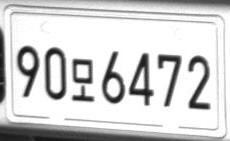0: (44, 46, 67, 100)
2: (187, 54, 211, 109)
4: (128, 52, 153, 106)
6: (101, 50, 125, 103)
7: (157, 53, 181, 106)
9: (16, 45, 40, 98)
모: (70, 58, 95, 101)
